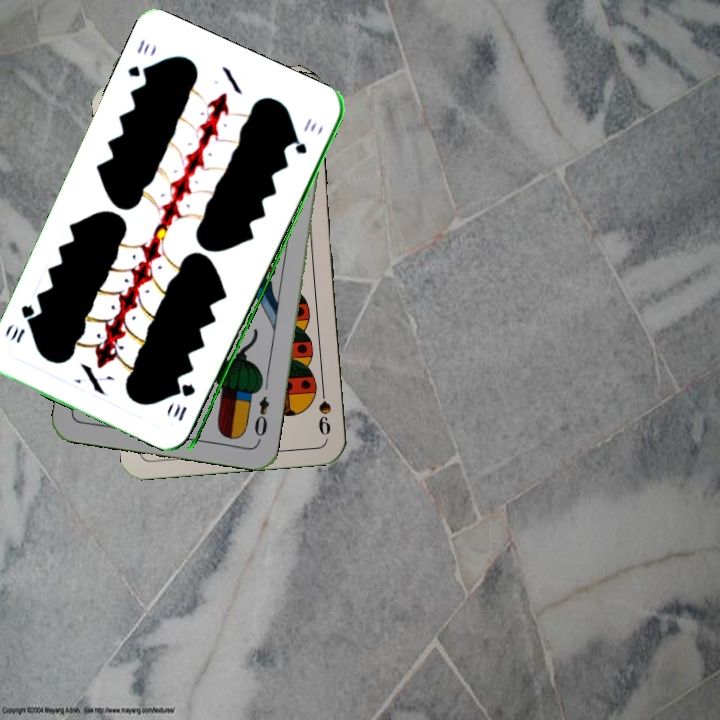EO: (250, 392, 272, 444)
G10: (123, 35, 154, 83), (169, 380, 198, 424)
S9: (314, 379, 334, 439)
